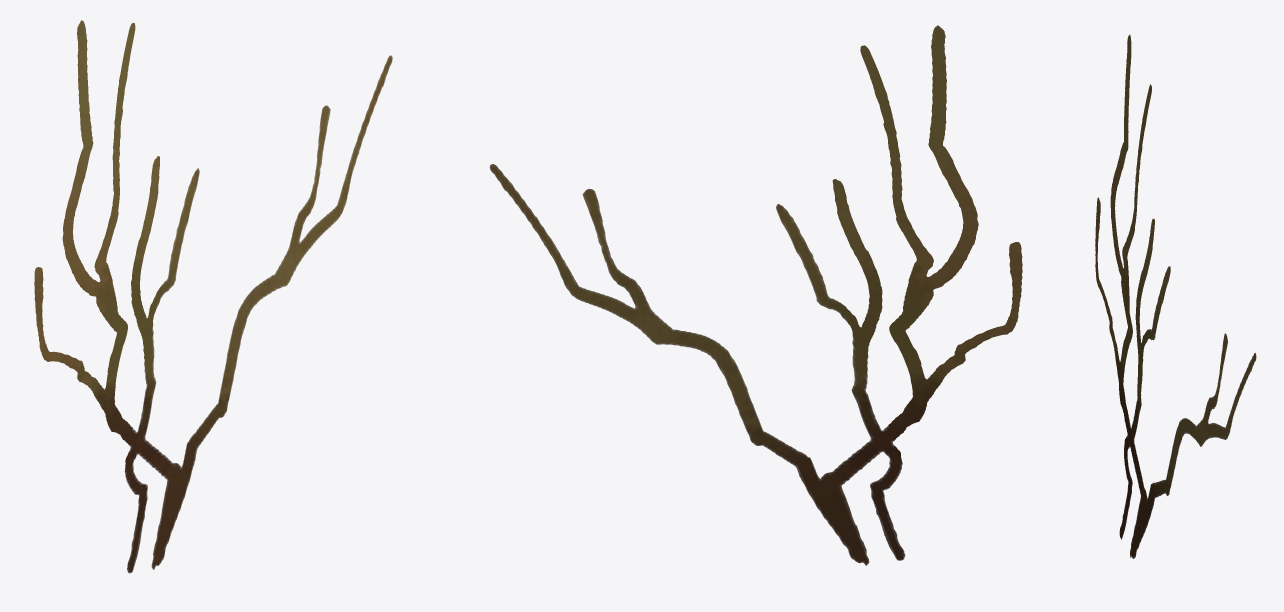
Rendered from branch4_001.fbx.
The picture shows the model from 3 angles, left to right: view 1: azimuth 30°, elevation 25°; view 2: azimuth 150°, elevation 25°; view 3: azimuth 270°, elevation 25°; orthographic projection. The views are drawn at different scales.
Visible parts, largest first — view 1: branch4.001; view 2: branch4.001; view 3: branch4.001.
Part boxes in pixels (left/top/right/bottom): branch4.001: left=34, top=20, right=392, bottom=573; branch4.001: left=489, top=25, right=1022, bottom=565; branch4.001: left=1095, top=34, right=1256, bottom=558.
Size of the model in its own units: 561 by 646 by 202.
